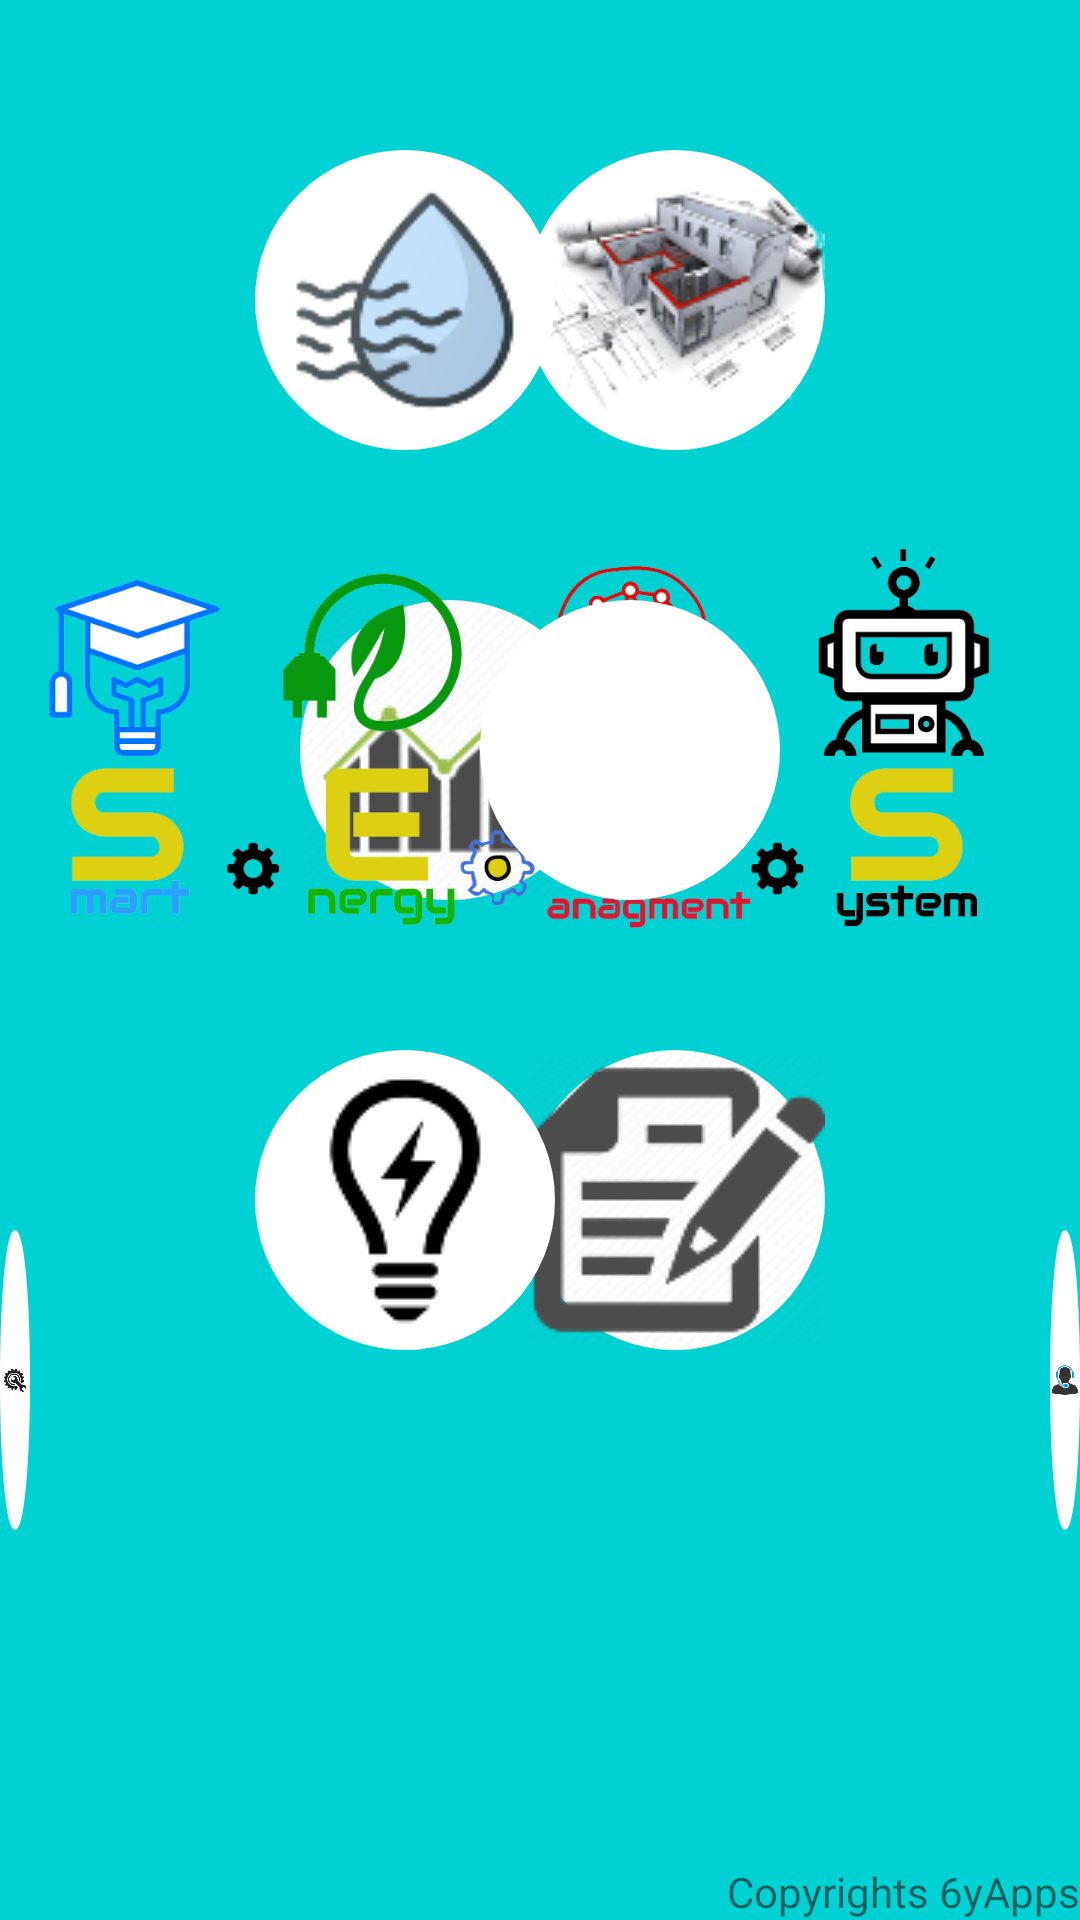

Screen size 1080px×1920px. Icon name, then its center in pixels as [x,y]:
Floor Plan: [675,300]
Light: [405,1200]
